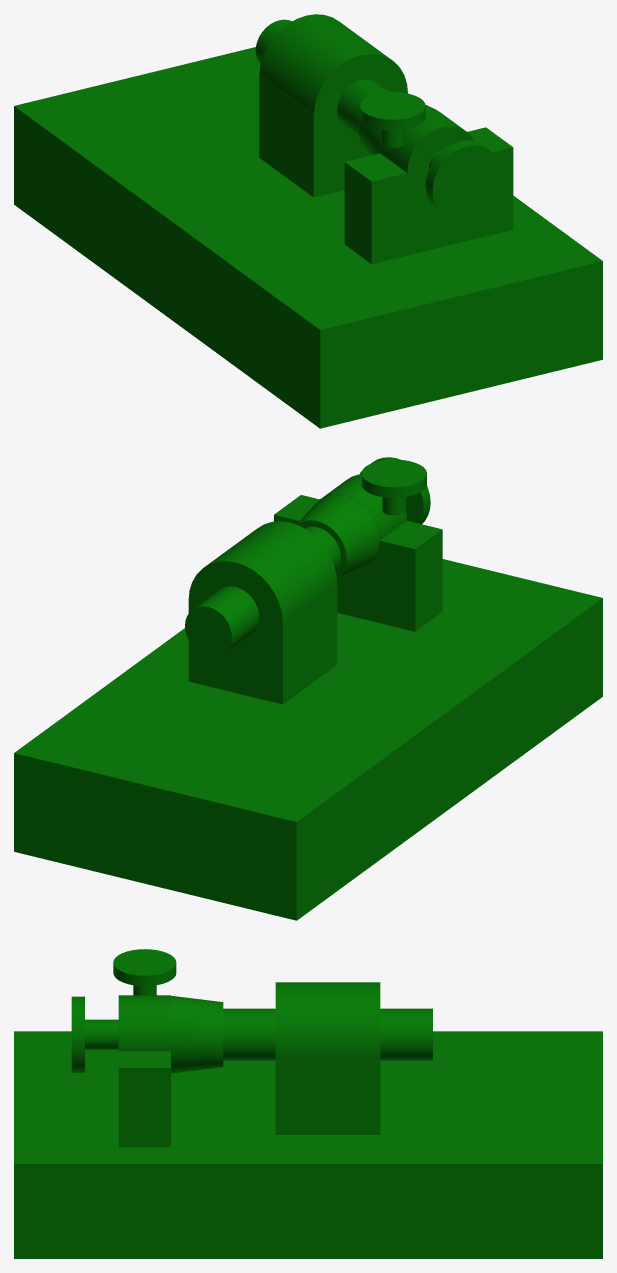
The model's file is Image-1711348128374-2280941544848_20-PA50.fbx.
3 views of the same model, one above another, from view 1: azimuth 30°, elevation 25°; view 2: azimuth 150°, elevation 25°; view 3: azimuth 270°, elevation 25° (orthographic). The views are drawn at different scales.
Visible parts, largest first — view 1: BOX 1 of SUBEQUIPMENT /20-PA50/PRIM, BOX 2 of SUBEQUIPMENT /20-PA50/PRIM, CYLINDER 3 of SUBEQUIPMENT /20-PA50/PRIM, BOX 3 of SUBEQUIPMENT /20-PA50/PRIM, /20-PA50/N2, CYLINDER 1 of SUBEQUIPMENT /20-PA50/PRIM, /20-PA50/N1, CYLINDER 2 of SUBEQUIPMENT /20-PA50/PRIM, CONE 1 of SUBEQUIPMENT /20-PA50/PRIM; view 2: BOX 1 of SUBEQUIPMENT /20-PA50/PRIM, CYLINDER 3 of SUBEQUIPMENT /20-PA50/PRIM, BOX 2 of SUBEQUIPMENT /20-PA50/PRIM, BOX 3 of SUBEQUIPMENT /20-PA50/PRIM, CYLINDER 2 of SUBEQUIPMENT /20-PA50/PRIM, CONE 1 of SUBEQUIPMENT /20-PA50/PRIM, /20-PA50/N1, CYLINDER 1 of SUBEQUIPMENT /20-PA50/PRIM, /20-PA50/N2; view 3: BOX 1 of SUBEQUIPMENT /20-PA50/PRIM, BOX 3 of SUBEQUIPMENT /20-PA50/PRIM, CYLINDER 3 of SUBEQUIPMENT /20-PA50/PRIM, CYLINDER 2 of SUBEQUIPMENT /20-PA50/PRIM, BOX 2 of SUBEQUIPMENT /20-PA50/PRIM, CONE 1 of SUBEQUIPMENT /20-PA50/PRIM, CYLINDER 1 of SUBEQUIPMENT /20-PA50/PRIM, /20-PA50/N1, /20-PA50/N2.
Boxes of the visible parts, <box> form: BOX 1 of SUBEQUIPMENT /20-PA50/PRIM: <box>14,47,602,428</box>; BOX 2 of SUBEQUIPMENT /20-PA50/PRIM: <box>344,127,513,264</box>; CYLINDER 3 of SUBEQUIPMENT /20-PA50/PRIM: <box>259,14,407,152</box>; BOX 3 of SUBEQUIPMENT /20-PA50/PRIM: <box>259,75,406,197</box>; /20-PA50/N2: <box>425,140,501,219</box>; CYLINDER 1 of SUBEQUIPMENT /20-PA50/PRIM: <box>380,107,473,201</box>; /20-PA50/N1: <box>360,92,425,147</box>; CYLINDER 2 of SUBEQUIPMENT /20-PA50/PRIM: <box>255,19,388,136</box>; CONE 1 of SUBEQUIPMENT /20-PA50/PRIM: <box>358,105,432,155</box>; BOX 1 of SUBEQUIPMENT /20-PA50/PRIM: <box>14,559,602,920</box>; CYLINDER 3 of SUBEQUIPMENT /20-PA50/PRIM: <box>188,521,336,662</box>; BOX 2 of SUBEQUIPMENT /20-PA50/PRIM: <box>274,495,442,631</box>; BOX 3 of SUBEQUIPMENT /20-PA50/PRIM: <box>188,582,337,704</box>; CYLINDER 2 of SUBEQUIPMENT /20-PA50/PRIM: <box>185,526,340,656</box>; CONE 1 of SUBEQUIPMENT /20-PA50/PRIM: <box>296,494,379,579</box>; /20-PA50/N1: <box>361,459,426,515</box>; CYLINDER 1 of SUBEQUIPMENT /20-PA50/PRIM: <box>318,474,406,565</box>; /20-PA50/N2: <box>359,457,430,524</box>; BOX 1 of SUBEQUIPMENT /20-PA50/PRIM: <box>14,1031,602,1258</box>; BOX 3 of SUBEQUIPMENT /20-PA50/PRIM: <box>275,1055,380,1134</box>; CYLINDER 3 of SUBEQUIPMENT /20-PA50/PRIM: <box>275,982,380,1055</box>; CYLINDER 2 of SUBEQUIPMENT /20-PA50/PRIM: <box>223,1008,432,1060</box>; BOX 2 of SUBEQUIPMENT /20-PA50/PRIM: <box>118,1051,170,1147</box>; CONE 1 of SUBEQUIPMENT /20-PA50/PRIM: <box>171,995,223,1073</box>; CYLINDER 1 of SUBEQUIPMENT /20-PA50/PRIM: <box>118,995,170,1051</box>; /20-PA50/N1: <box>113,949,176,995</box>; /20-PA50/N2: <box>71,996,118,1072</box>.
Size of the model in its own units: 1.2 by 2.25 by 0.968.
